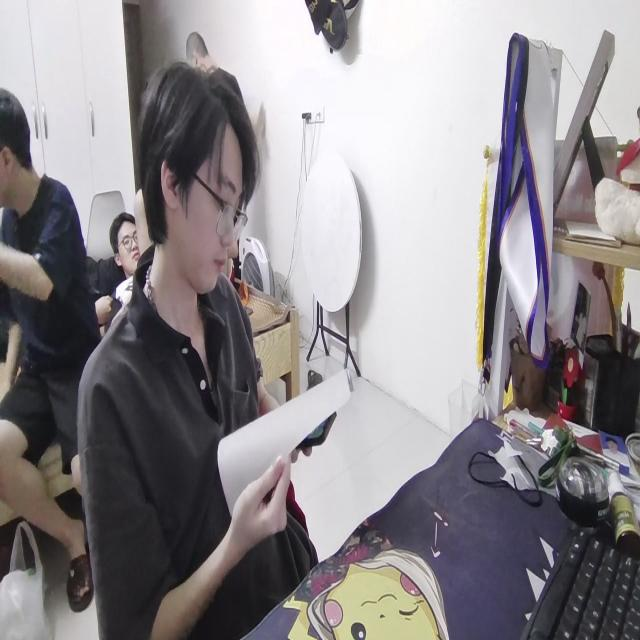book: (218, 367, 354, 516)
extra_person: (0, 86, 104, 609), (96, 212, 144, 324)
student: (81, 55, 317, 640)
